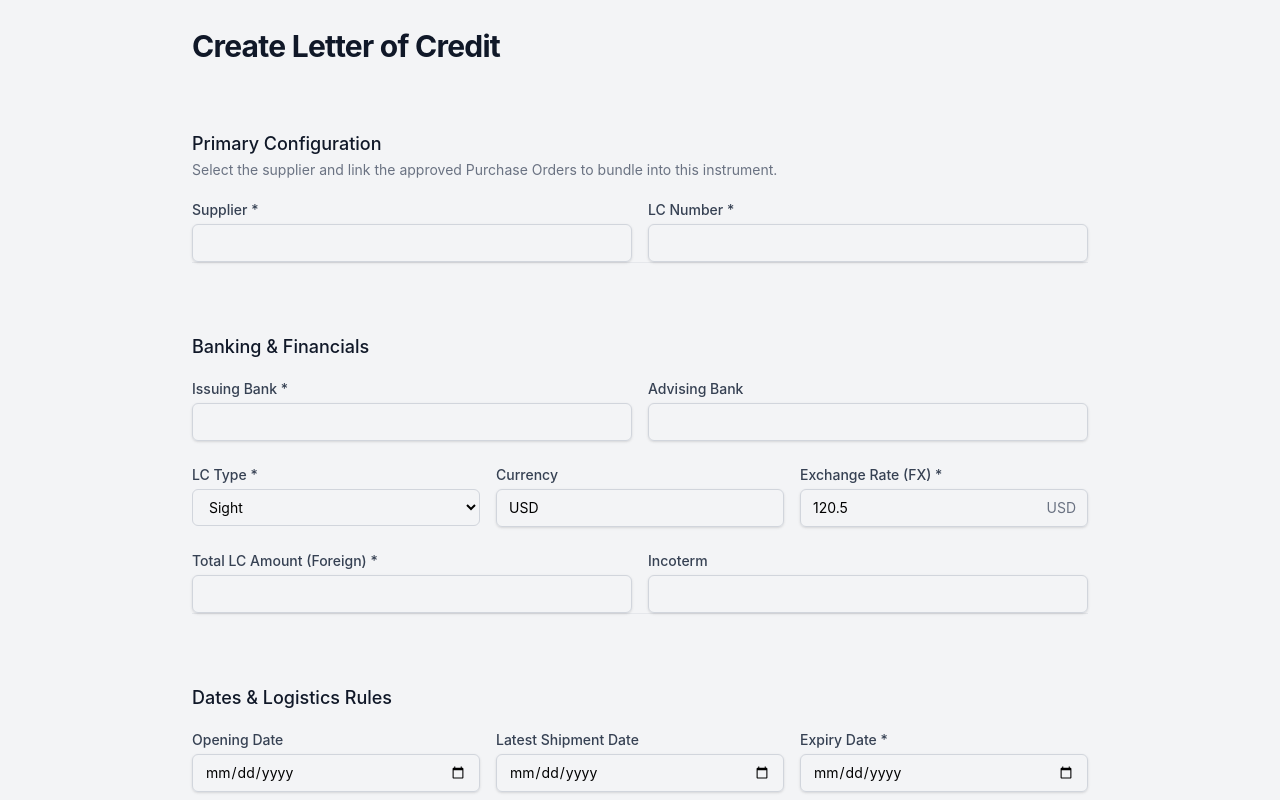
LetterOfCreditForm › filters out POs that already have an LC attached (BR08)
Type "sup-1" into the field labelled "Supplier *" at (412, 243), box 192,224 -> 632,262
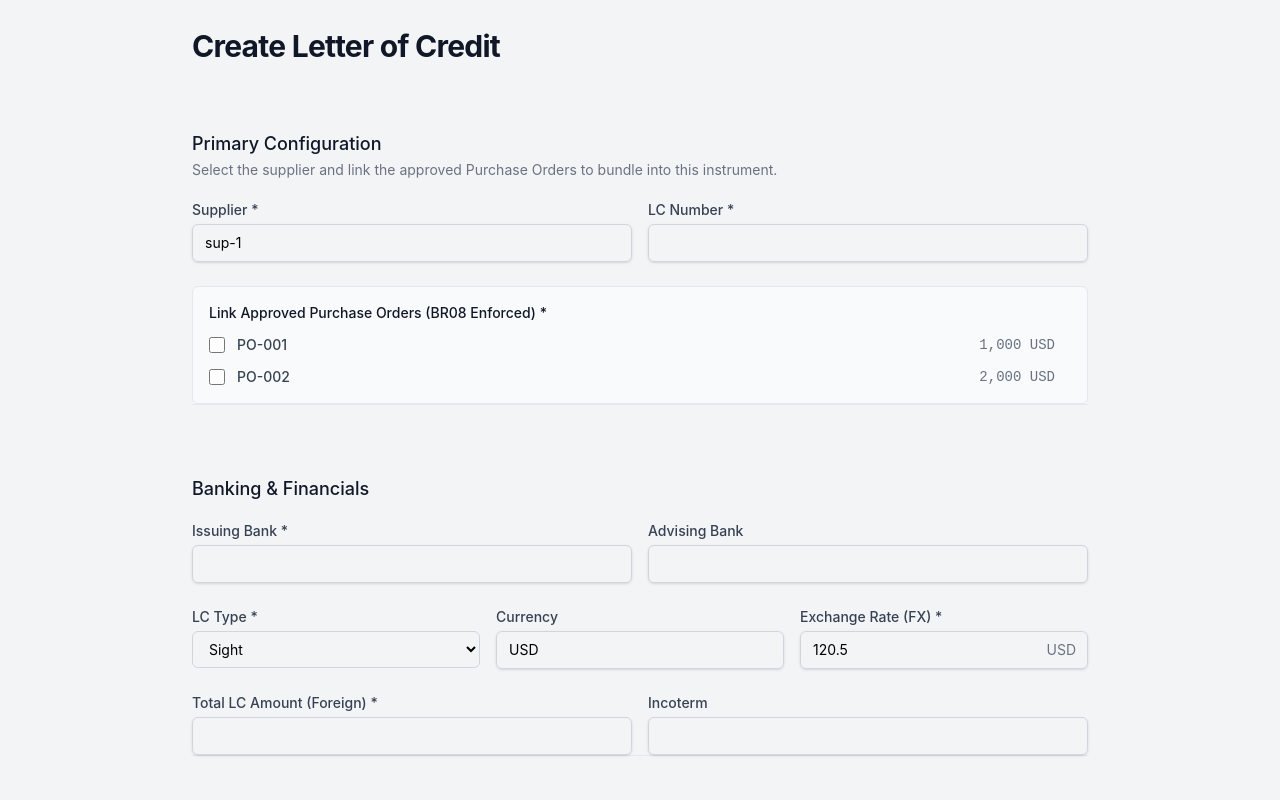
Expected: the text "PO-001" is shown, 237,335 -> 287,355
Expected: the text "PO-002" is shown, 237,367 -> 290,387
